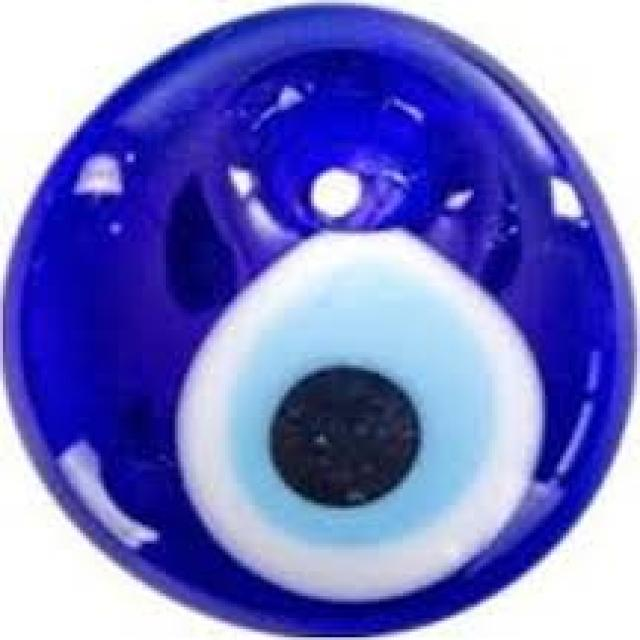Nazar-Boncugu: (0, 5, 634, 640)
